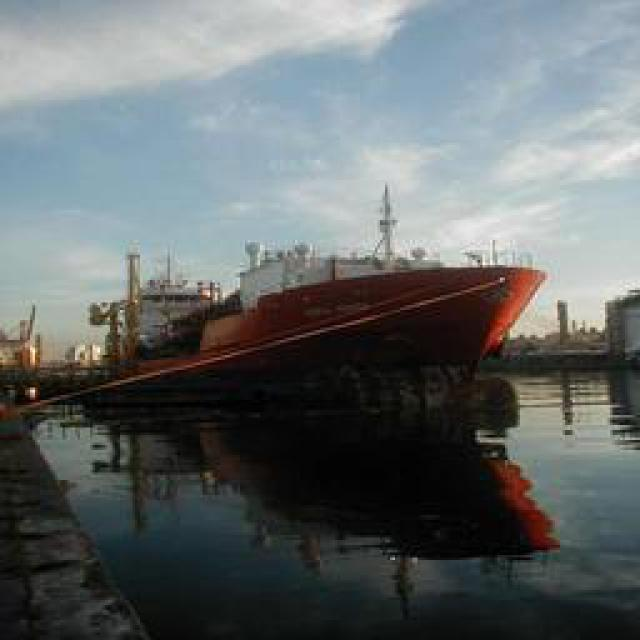Ship: (30, 193, 548, 421)
